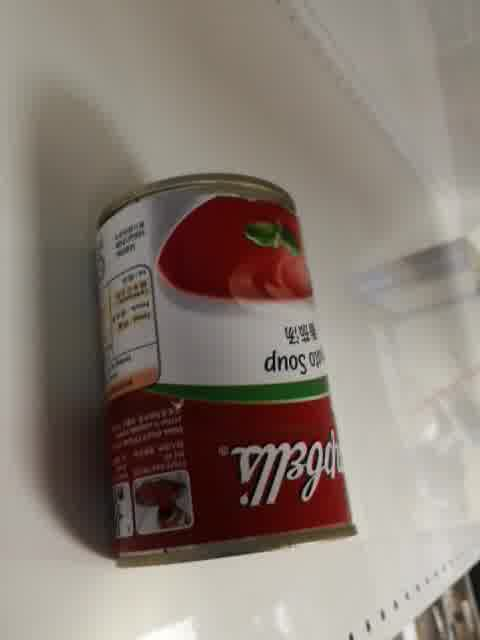tomatosoup: (91, 165, 358, 574)
